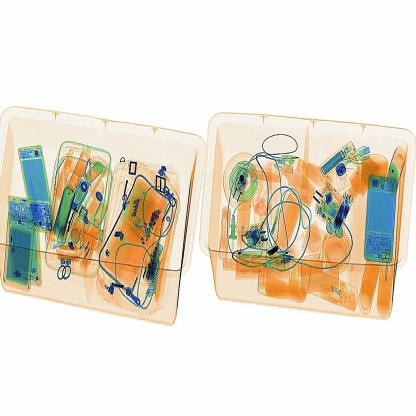knife: (259, 239, 287, 262)
